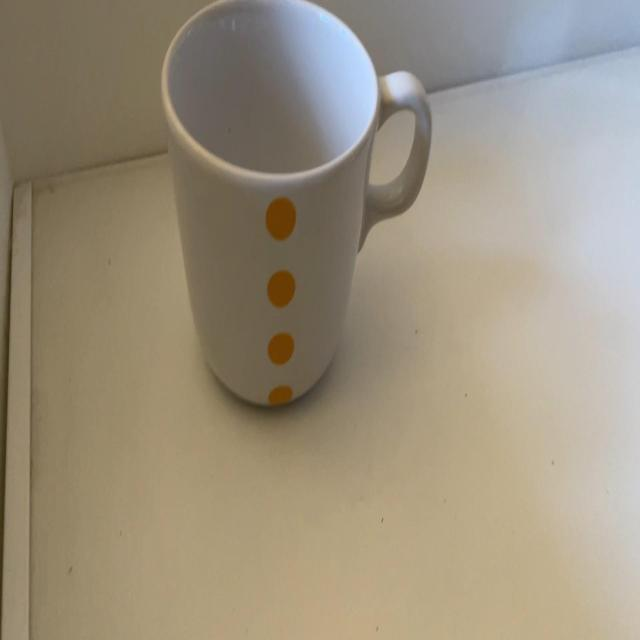cup: (154, 0, 431, 411)
